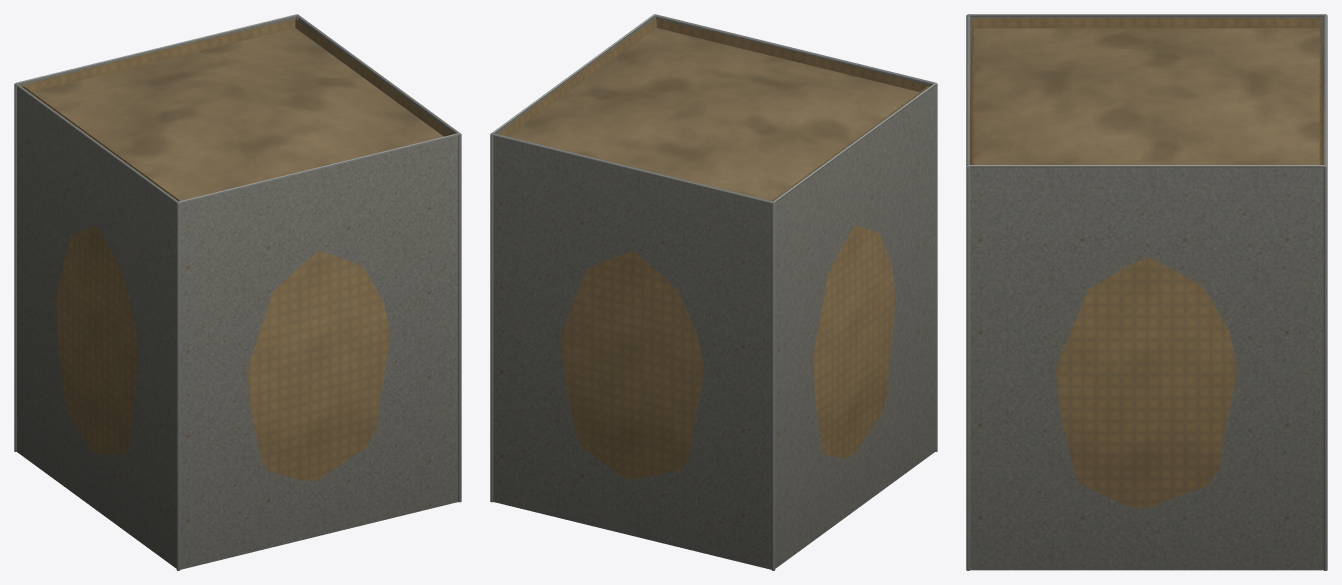
File: hesco_tall.glb
3 views of the same model, side by side, from view 1: azimuth 30°, elevation 25°; view 2: azimuth 150°, elevation 25°; view 3: azimuth 270°, elevation 25° (orthographic). The views are drawn at different scales.
Parts seen in each view (by area): view 1: hesco_tall; view 2: hesco_tall; view 3: hesco_tall.
Boxes of the visible parts, box(x1,y1,x2,y2) form: hesco_tall: box(14, 14, 461, 570); hesco_tall: box(490, 14, 937, 570); hesco_tall: box(966, 14, 1327, 570).
Bounding box in the file's own units: 2.16 × 2.7 × 2.16.
4 materials, 3 textured.
